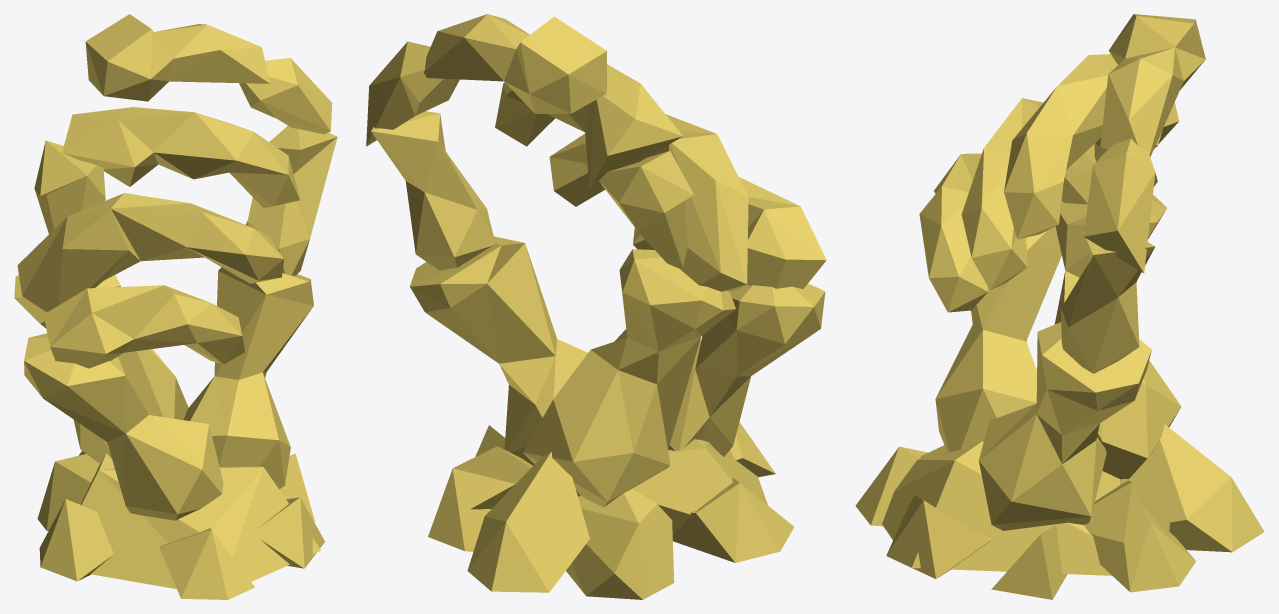
File: Hand.fbx
3 renders of one model, left to right at view 1: azimuth 30°, elevation 25°; view 2: azimuth 150°, elevation 25°; view 3: azimuth 270°, elevation 25°, orthographic. The views are drawn at different scales.
Visible parts, largest first — view 1: Hand; view 2: Hand; view 3: Hand.
Part boxes in pixels (box(x1,y1,x2,y2)): Hand: box(14, 14, 337, 599); Hand: box(366, 14, 826, 599); Hand: box(855, 14, 1264, 599).
Size of the model in its own units: 0.7402 by 1 by 0.6738.
